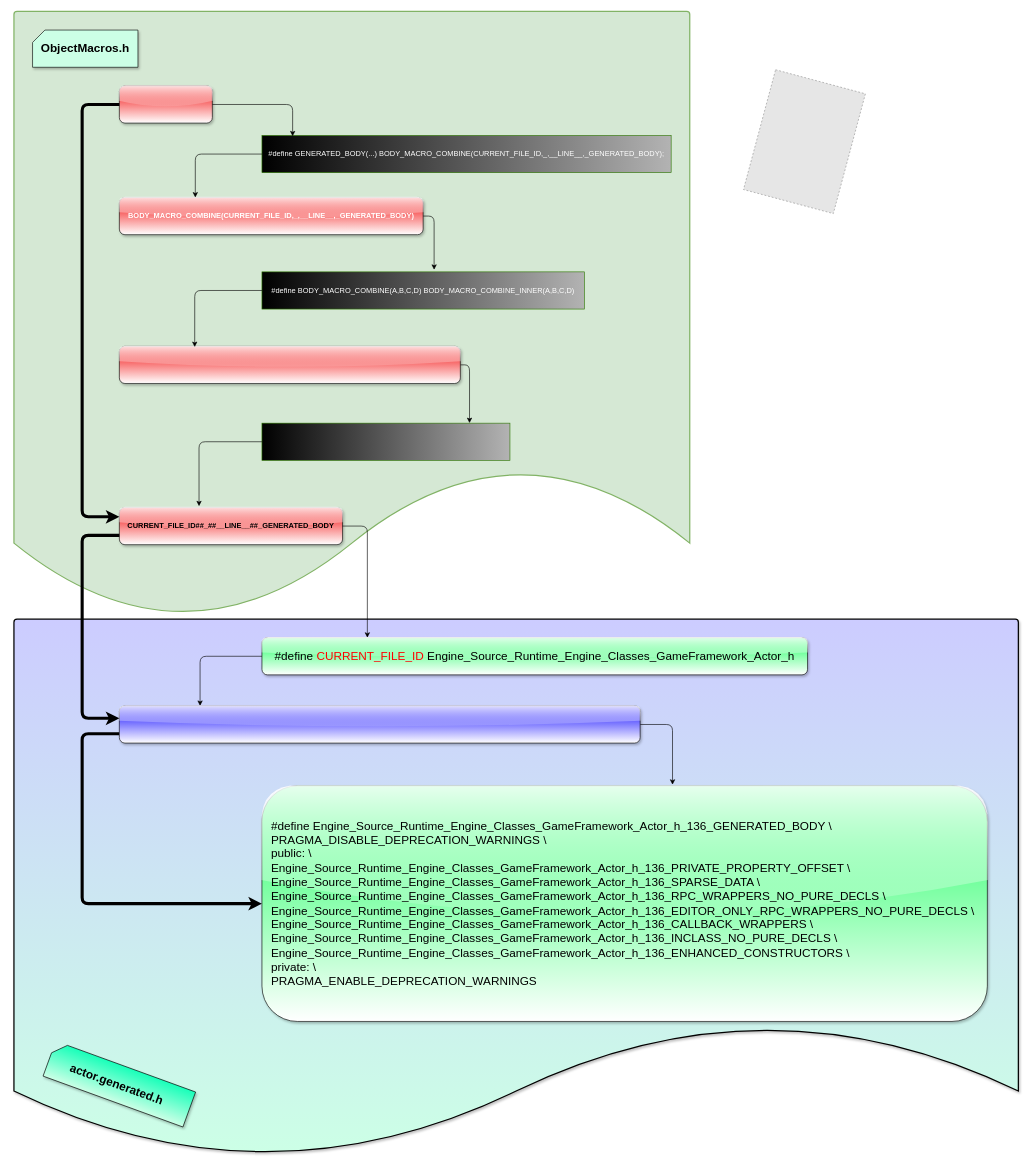
Image size: 1033x1174. Some labels were removed from this diagram. Grey dashed boxes stand in for pictures. The shapes that lost their labels are listed below. From the top down, each one's centre as x and y in pixels, then its label:
(x=166, y=105): GENERATED_BODY()
(x=290, y=365): BODY_MACRO_COMBINE_INNER (CURRENT_FILE_ID,_,__LINE__,_GENERATED_BODY)
(x=385, y=441): #define BODY_MACRO_COMBINE_INNER(A,B,C,D) A##B##C##D
(x=380, y=725): Engine_Source_Runtime_Engine_Classes_GameFramework_Actor_h_136_GENERATED_BODY
